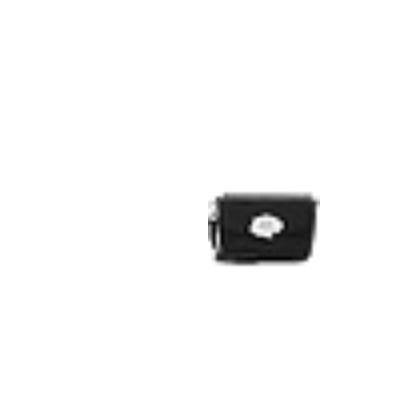Bag: (208, 173, 320, 285)
